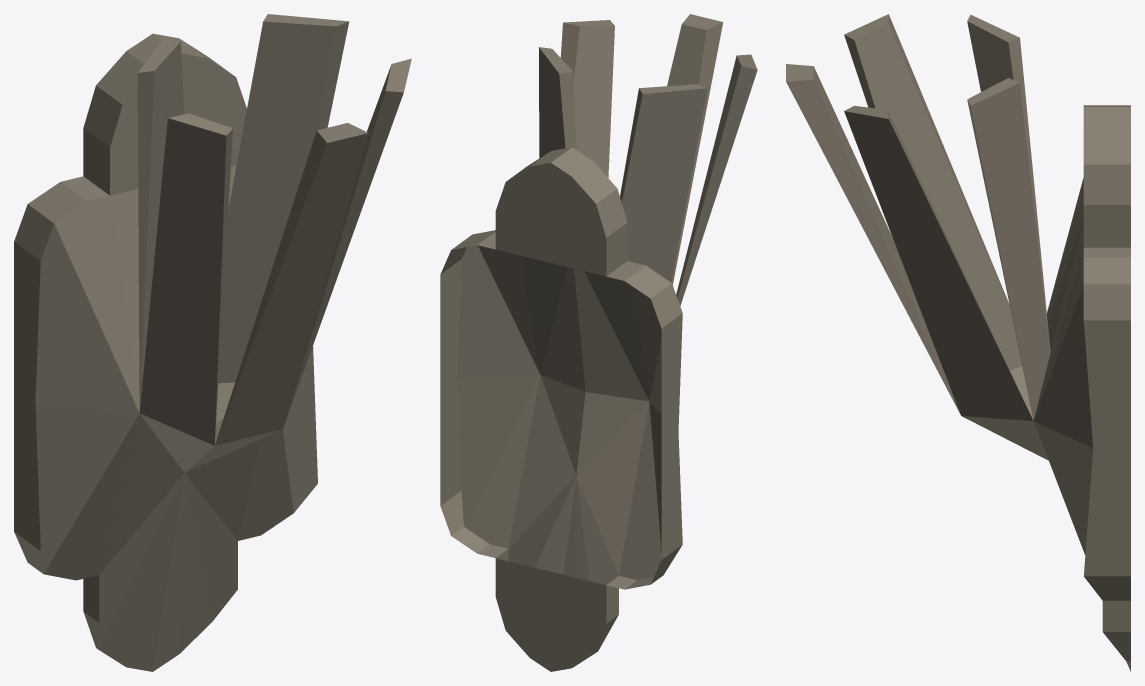
Rendered from TorchHolster.fbx.
3 renders of one model, left to right at view 1: azimuth 30°, elevation 25°; view 2: azimuth 150°, elevation 25°; view 3: azimuth 270°, elevation 25°, orthographic. The views are drawn at different scales.
Parts seen in each view (by area): view 1: TorchMount; view 2: TorchMount; view 3: TorchMount.
Boxes of the visible parts, x1,y1,x2,y2 form: TorchMount: (14,14,411,671); TorchMount: (440,14,757,671); TorchMount: (786,14,1130,671).
Bounding box in the file's own units: 0.75 × 1.79 × 0.915.
